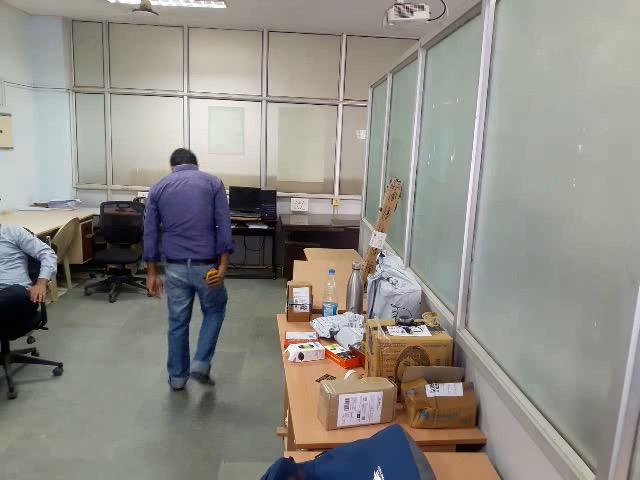shoplifting: (198, 232, 236, 301)
